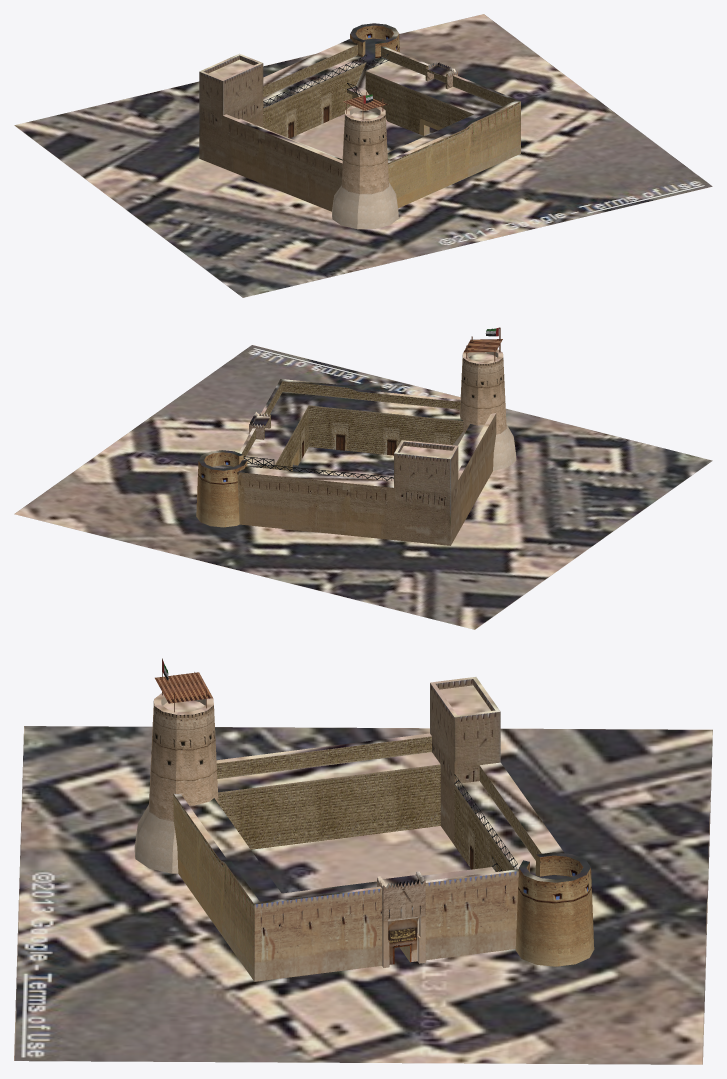
Rendered from DubaiMuseum (1).fbx.
3 views of the same model, one above another, from view 1: azimuth 30°, elevation 25°; view 2: azimuth 150°, elevation 25°; view 3: azimuth 270°, elevation 25° (orthographic). The views are drawn at different scales.
Visible parts, largest first — view 1: Google_Earth_Snapshot, Model, TowerFrontPart1, TowerFrontPart2, TowerBack1, TowerFrontPart4; view 2: Google_Earth_Snapshot, Model, TowerBack1, TowerFrontPart3, TowerFrontPart6, TowerFrontPart2; view 3: Google_Earth_Snapshot, Model, TowerBack1, TowerFrontPart4, TowerFrontPart5, TowerFrontPart6.
Part boxes in pixels (<box>): Google_Earth_Snapshot: <box>14,14,712,297</box>; Model: <box>199,38,520,211</box>; TowerFrontPart1: <box>357,117,390,229</box>; TowerFrontPart2: <box>332,114,361,228</box>; TowerBack1: <box>350,23,399,58</box>; TowerFrontPart4: <box>377,110,398,224</box>; Google_Earth_Snapshot: <box>14,345,712,629</box>; Model: <box>237,327,502,545</box>; TowerBack1: <box>196,450,247,527</box>; TowerFrontPart3: <box>477,360,507,470</box>; TowerFrontPart6: <box>453,357,478,445</box>; TowerFrontPart2: <box>495,353,516,466</box>; Google_Earth_Snapshot: <box>14,726,712,1064</box>; Model: <box>155,660,564,981</box>; TowerBack1: <box>515,852,594,966</box>; TowerFrontPart4: <box>135,705,178,873</box>; TowerFrontPart5: <box>172,709,209,873</box>; TowerFrontPart6: <box>201,698,218,803</box>.
Bounding box in the file's own units: 83.5 × 23 × 72.82.
